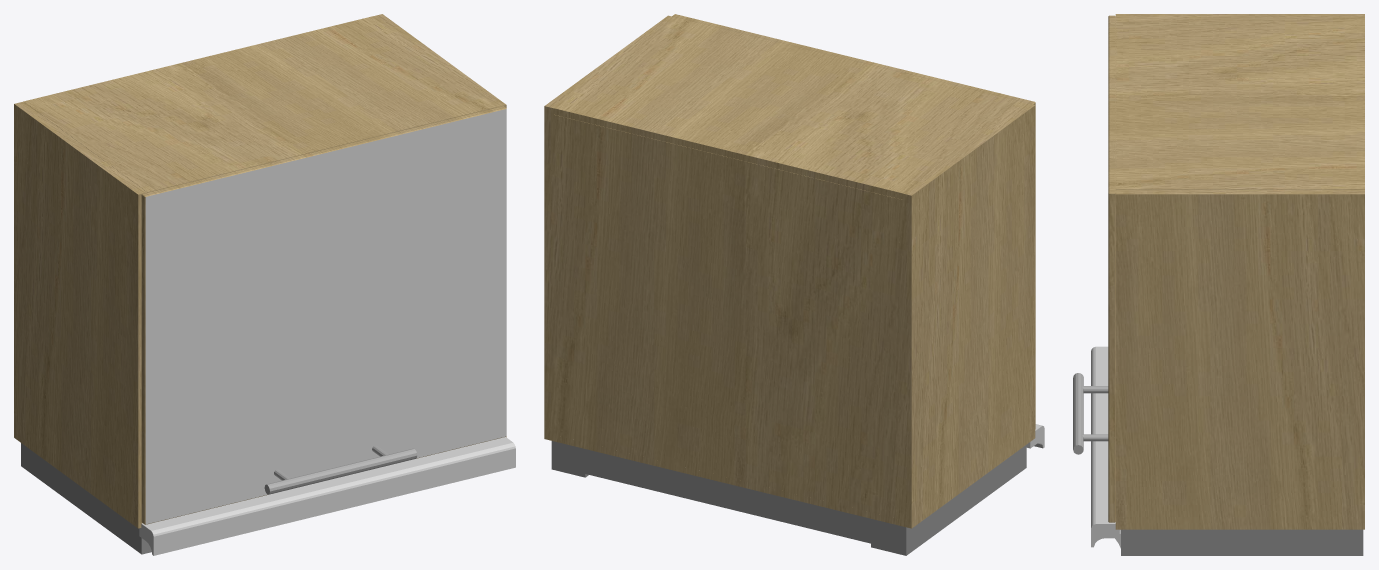
Rendered from smallUpperCabinet.obj.
3 renders of one model, left to right at view 1: azimuth 30°, elevation 25°; view 2: azimuth 150°, elevation 25°; view 3: azimuth 270°, elevation 25°, orthographic.
Parts seen in each view (by area): view 1: Cube.009; view 2: Cube.009; view 3: Cube.009.
Part boxes in pixels (x1,y1,x2,y2): Cube.009: (14, 14, 515, 555); Cube.009: (544, 14, 1044, 555); Cube.009: (1073, 14, 1364, 555).
Bounding box in the file's own units: 60 × 56.58 × 41.
